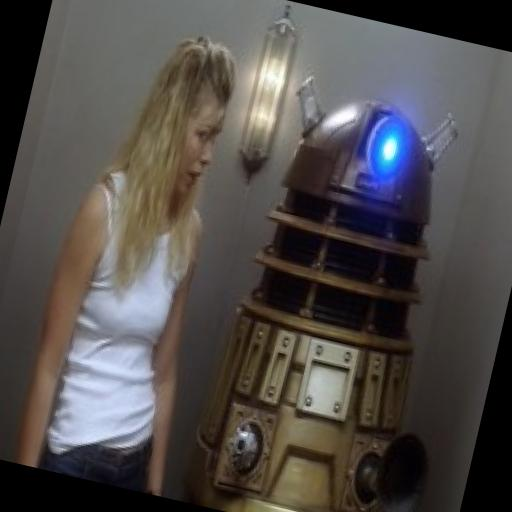dalek: (184, 74, 509, 512)
